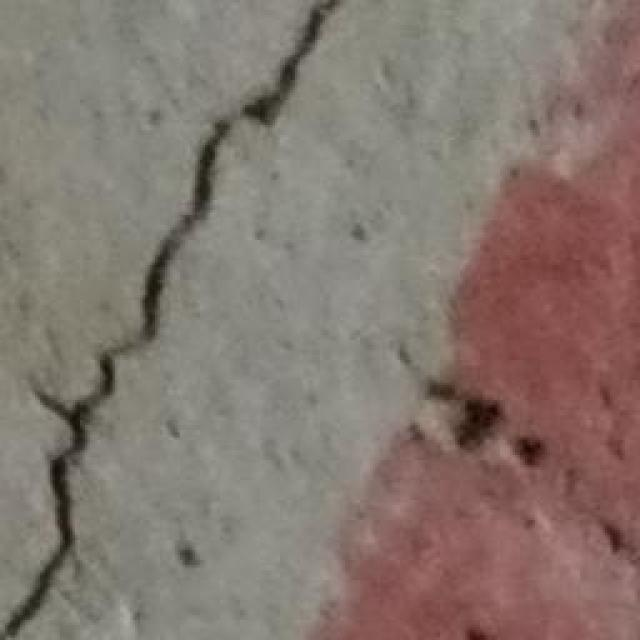Radial: (0, 0, 324, 640)
Rippled: (367, 3, 640, 640)
